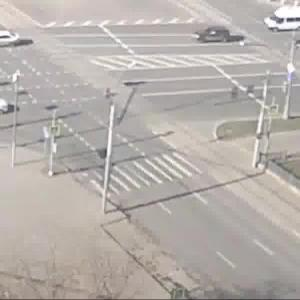car: (189, 27, 238, 47), (266, 7, 300, 31), (1, 31, 28, 50)
